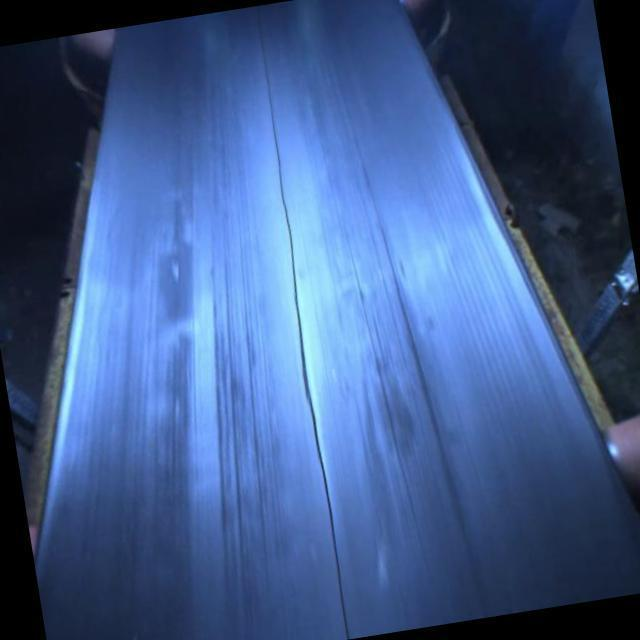Tear: (250, 10, 356, 640)
